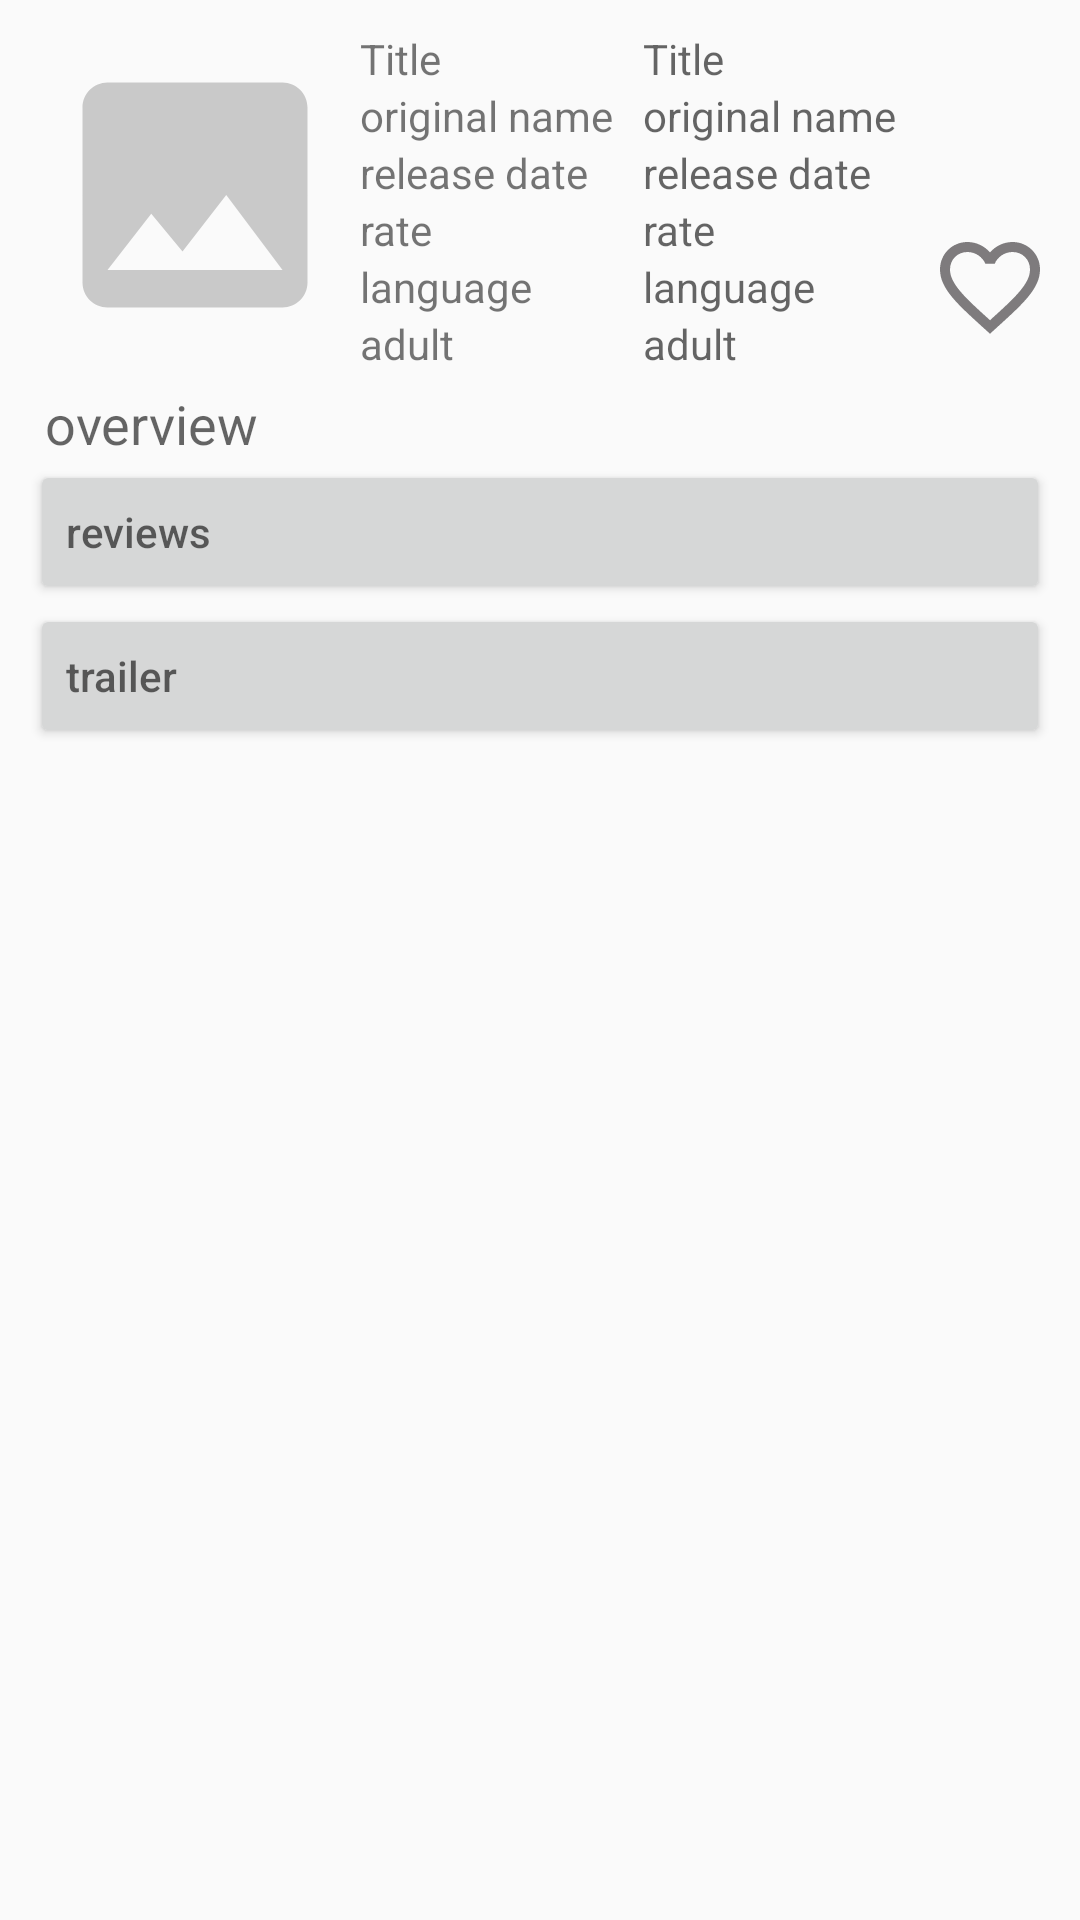

Screen size 1080 × 1920. Icon name, then its box in pixels as box(x1, y1, x2, y2):
unfavourite: box(940, 242, 1040, 334)
